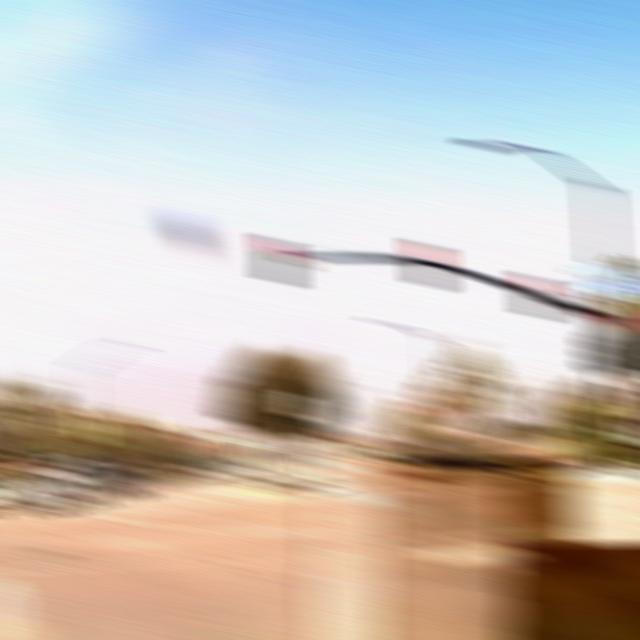speedLimit50: (280, 390, 312, 419)
